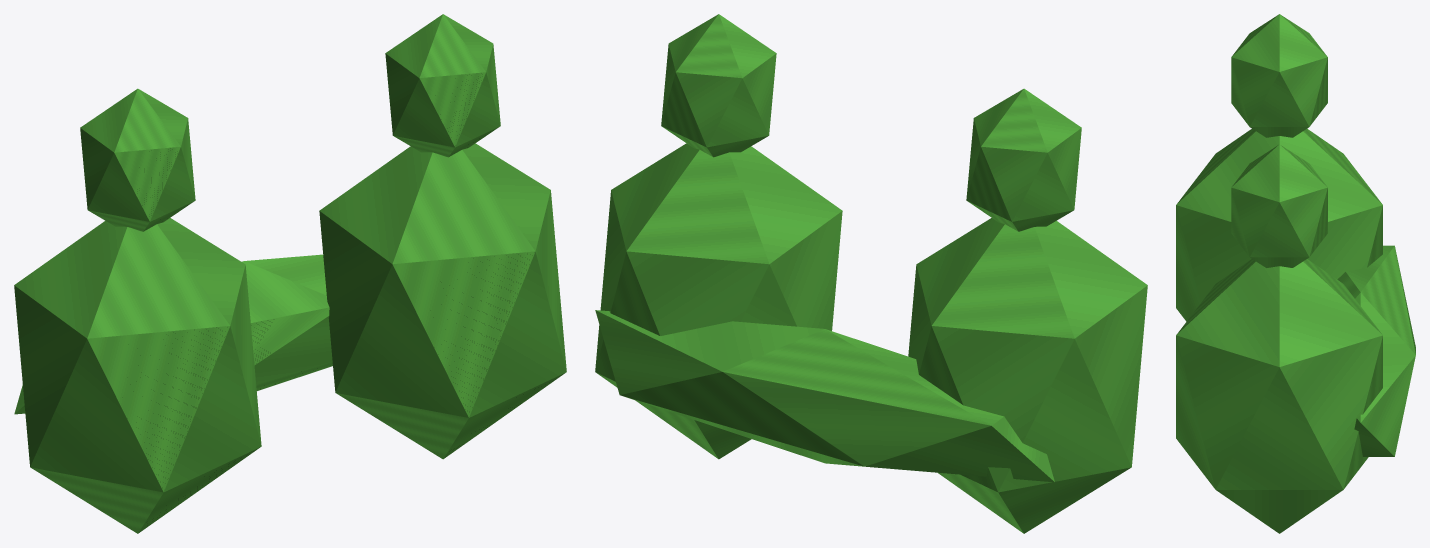
Rendered from plague_vial.glb.
The picture shows the model from 3 angles, left to right: view 1: azimuth 30°, elevation 25°; view 2: azimuth 150°, elevation 25°; view 3: azimuth 270°, elevation 25°; orthographic projection. The views are drawn at different scales.
Parts seen in each view (by area): view 1: gear_plague_vial; view 2: gear_plague_vial; view 3: gear_plague_vial.
Boxes of the visible parts, x1,y1,x2,y2 form: gear_plague_vial: [14, 14, 566, 533]; gear_plague_vial: [595, 14, 1147, 533]; gear_plague_vial: [1176, 14, 1415, 533].
Bounding box in the file's own units: 0.3242 × 0.265 × 0.1478.
Materials: 1 (1 with a texture image).
